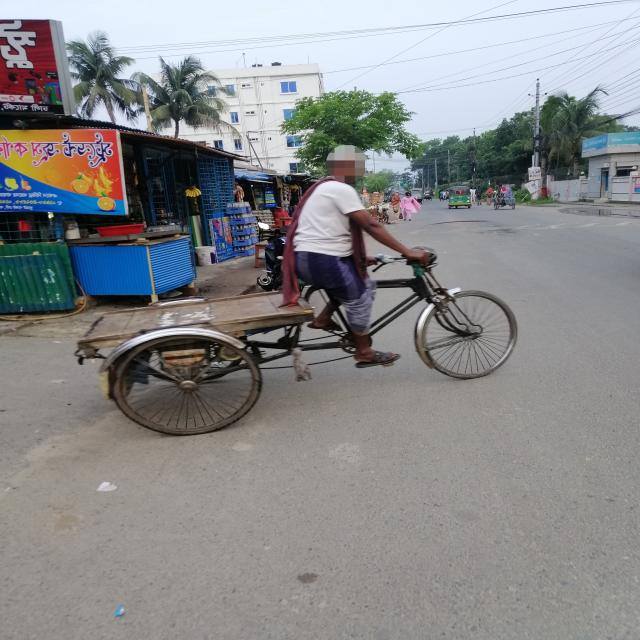Van: (67, 241, 544, 447)
